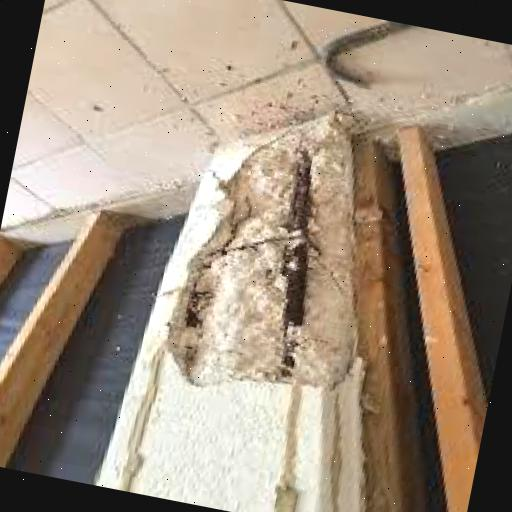spalling: (169, 123, 357, 389)
